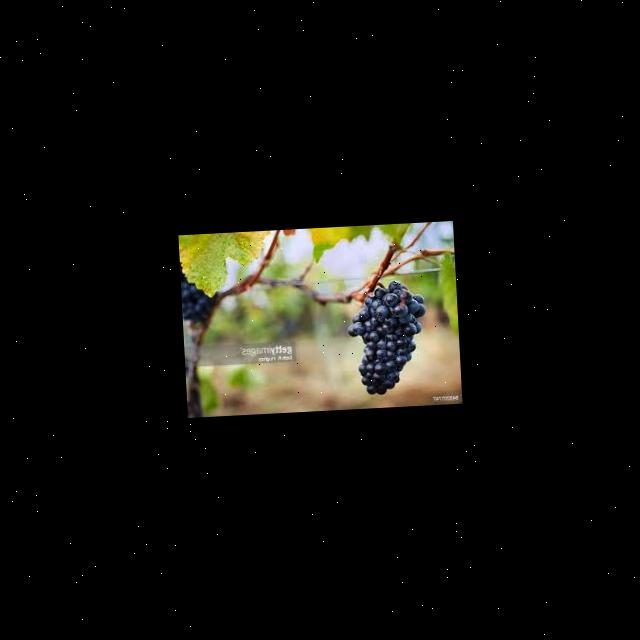grape: (344, 279, 430, 396)
